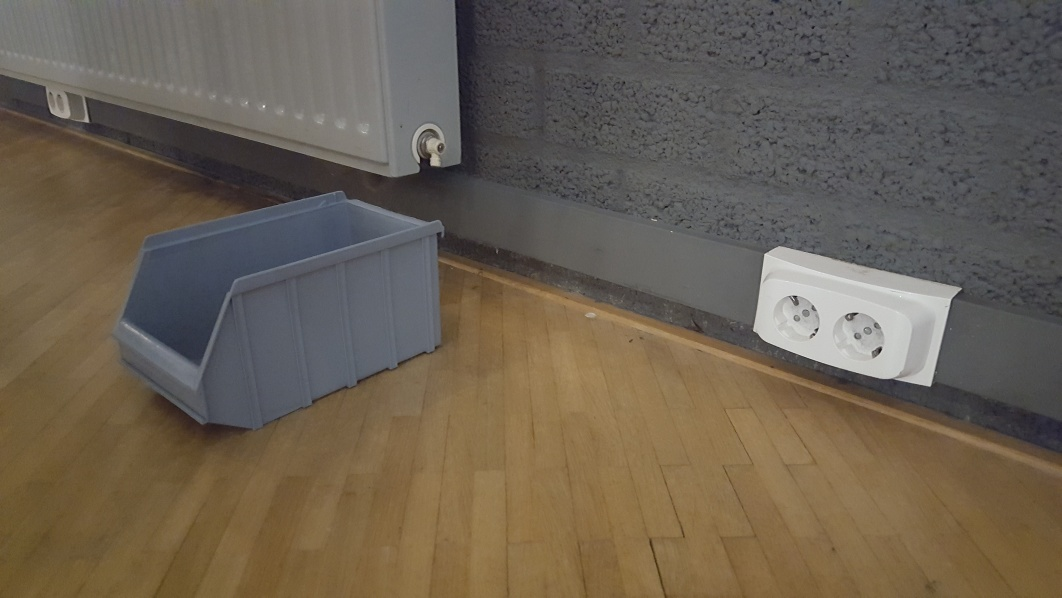tray: (115, 187, 450, 432)
